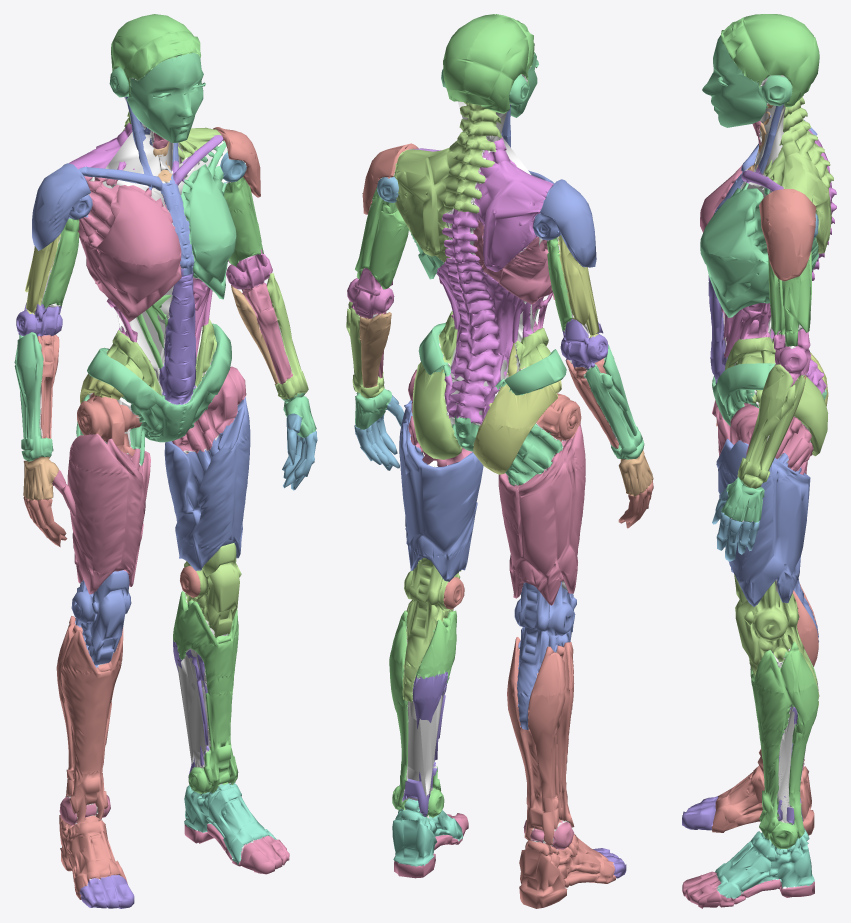
File: android_yup.glb
The picture shows the model from 3 angles, left to right: view 1: azimuth 30°, elevation 25°; view 2: azimuth 150°, elevation 25°; view 3: azimuth 270°, elevation 25°; orthographic projection.
Parts seen in each view (by area): view 1: Hi3D_Segmented Pastel Female Android 3D Model Asset_part01_; view 2: Hi3D_Segmented Pastel Female Android 3D Model Asset_part01_; view 3: Hi3D_Segmented Pastel Female Android 3D Model Asset_part01_.
Part boxes in pixels (x1,y1,x2,y2): Hi3D_Segmented Pastel Female Android 3D Model Asset_part01_: [14, 14, 317, 908]; Hi3D_Segmented Pastel Female Android 3D Model Asset_part01_: [346, 14, 653, 908]; Hi3D_Segmented Pastel Female Android 3D Model Asset_part01_: [682, 14, 836, 908].
Bounding box in the file's own units: 0.3555 × 1 × 0.1667.
